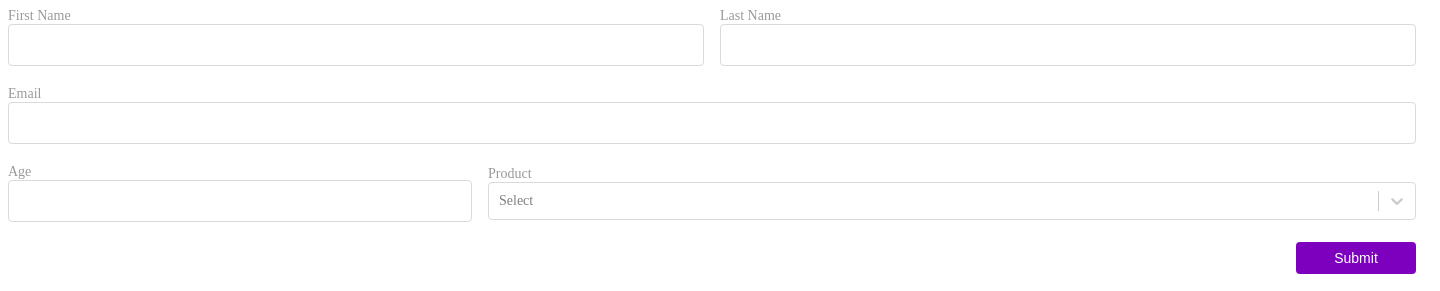
Testing a product insurance sales form component › should throw error for invalid email format
This screenshot has width=1440, height=291.
Expected: the text "Is Not a Valid Email" is not shown
Step 1. Type "wrongemail.com" into the field with test id "email" → (712,123), box [8, 102, 1416, 144]
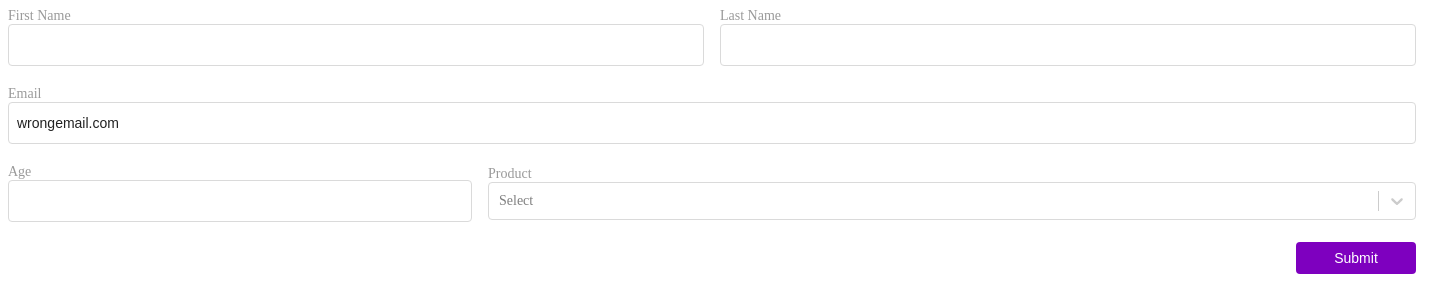
Step 2. Click the element showing "First Name Last Name Email Age Product Select Submit" → (720,141), box [8, 8, 1432, 274]
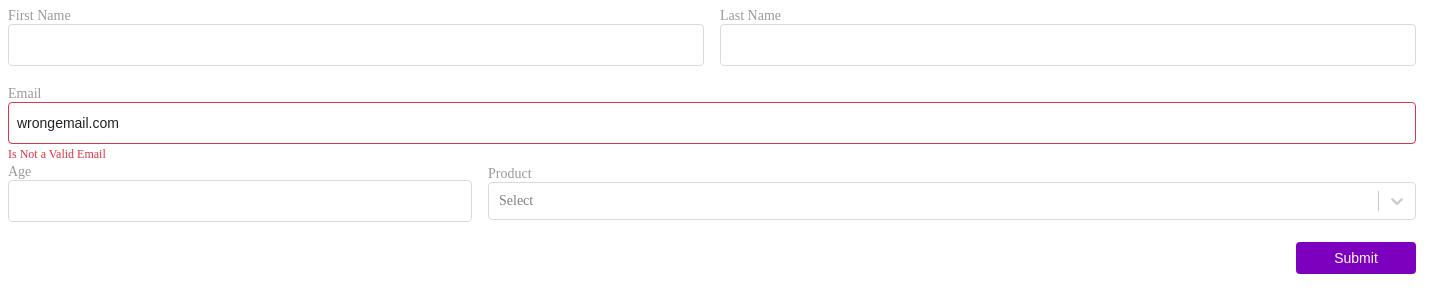
Expected: the text "Is Not a Valid Email" is shown, [8, 147, 106, 161]
